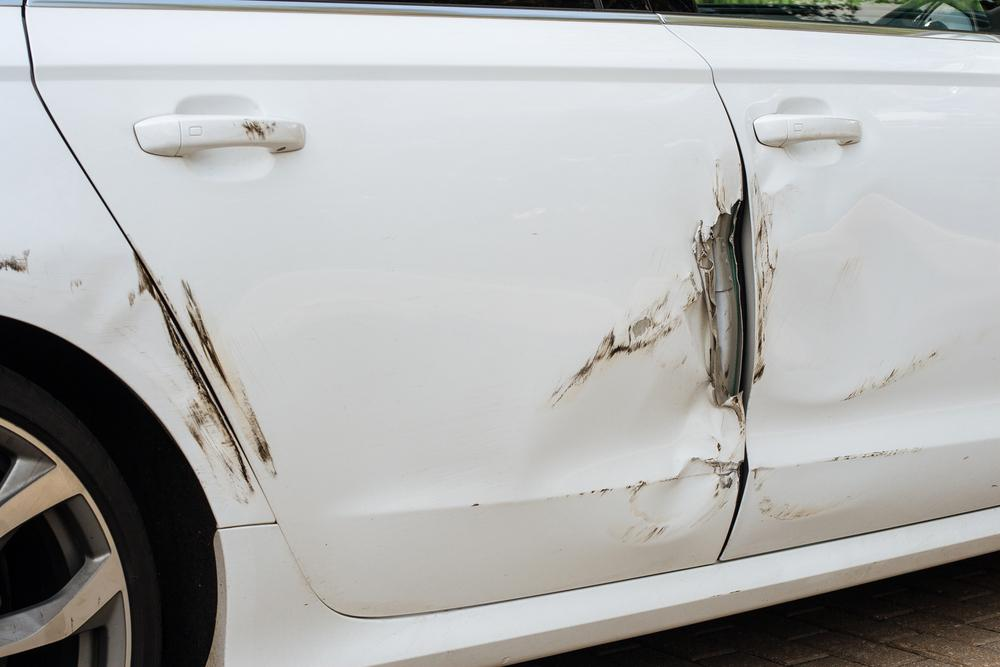crack: (692, 190, 743, 424)
dent: (530, 277, 739, 547), (756, 196, 1000, 406), (0, 251, 220, 459)
scratch: (139, 273, 288, 497)
